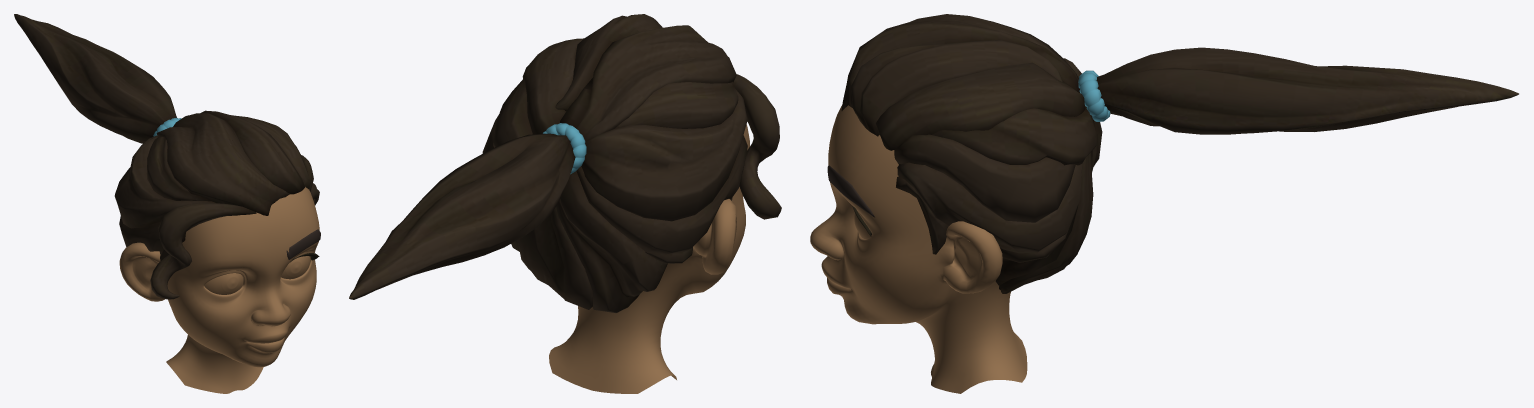
The model's file is ship_rain.glb.
3 renders of one model, left to right at view 1: azimuth 30°, elevation 25°; view 2: azimuth 150°, elevation 25°; view 3: azimuth 270°, elevation 25°, orthographic. The views are drawn at different scales.
Parts seen in each view (by area): view 1: GEO-rain-head, GEO-rain-hair_main, GEO-rain-hair_ponytail, GEO-rain-hair_strand, GEO-rain-eyebrows; view 2: GEO-rain-hair_main, GEO-rain-hair_ponytail, GEO-rain-head, GEO-rain-hair_strand, GEO-rain-hairband; view 3: GEO-rain-hair_main, GEO-rain-head, GEO-rain-hair_ponytail, GEO-rain-hairband, GEO-rain-eyebrows.
Boxes of the visible parts, x1,y1,x2,y2 form: GEO-rain-head: (119, 187, 319, 393); GEO-rain-hair_main: (114, 110, 319, 260); GEO-rain-hair_ponytail: (14, 14, 176, 143); GEO-rain-hair_strand: (150, 203, 256, 299); GEO-rain-eyebrows: (286, 229, 320, 259); GEO-rain-hair_main: (482, 14, 747, 312); GEO-rain-hair_ponytail: (349, 133, 575, 299); GEO-rain-head: (549, 124, 749, 393); GEO-rain-hair_strand: (733, 74, 781, 219); GEO-rain-hairband: (543, 123, 586, 174); GEO-rain-hair_main: (841, 14, 1102, 293); GEO-rain-head: (810, 105, 1027, 393); GEO-rain-hair_ponytail: (1079, 47, 1518, 134); GEO-rain-hairband: (1078, 70, 1110, 121); GEO-rain-eyebrows: (827, 165, 874, 217).
Bounding box in the file's own units: 0.2763 × 0.37 × 0.6814.
10 materials, 1 textured.
